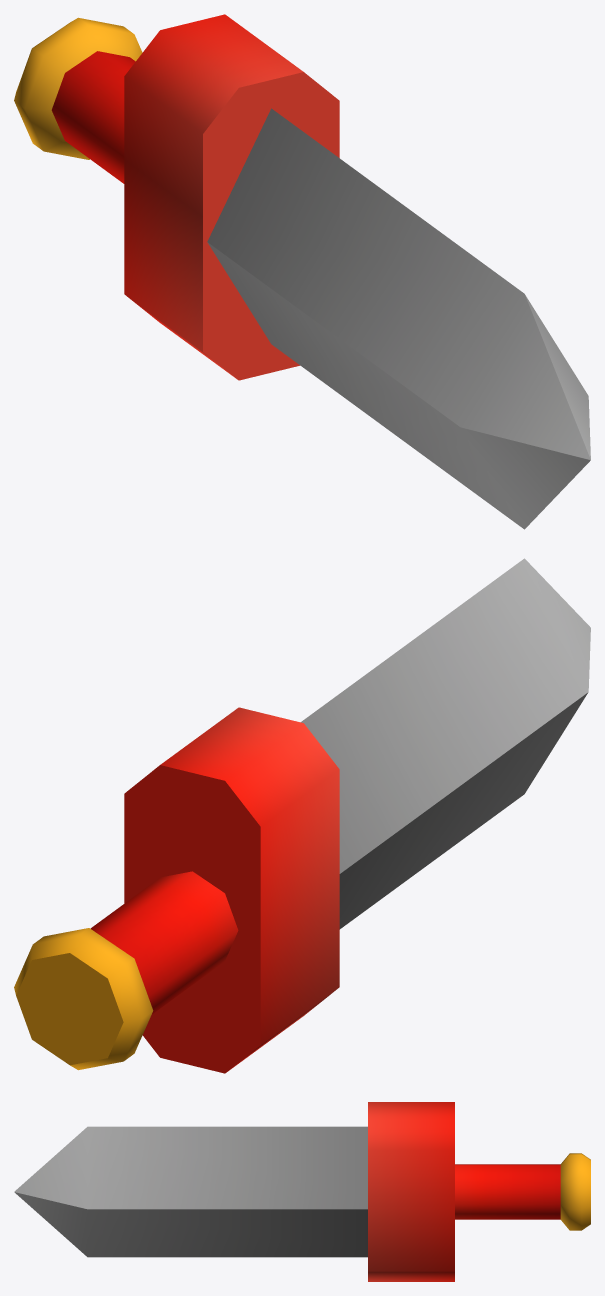
Rendered from Capsule_Weapon_Sword_01.fbx.
3 views of the same model, one above another, from view 1: azimuth 30°, elevation 25°; view 2: azimuth 150°, elevation 25°; view 3: azimuth 270°, elevation 25° (orthographic). The views are drawn at different scales.
Visible parts, largest first — view 1: Capsule_Weapon_Sword_01; view 2: Capsule_Weapon_Sword_01; view 3: Capsule_Weapon_Sword_01.
Boxes of the visible parts, <box> form: Capsule_Weapon_Sword_01: <box>14,14,590,529</box>; Capsule_Weapon_Sword_01: <box>14,558,590,1073</box>; Capsule_Weapon_Sword_01: <box>14,1102,590,1281</box>.
Bounding box in the file's own units: 20.06 × 41.13 × 133.
